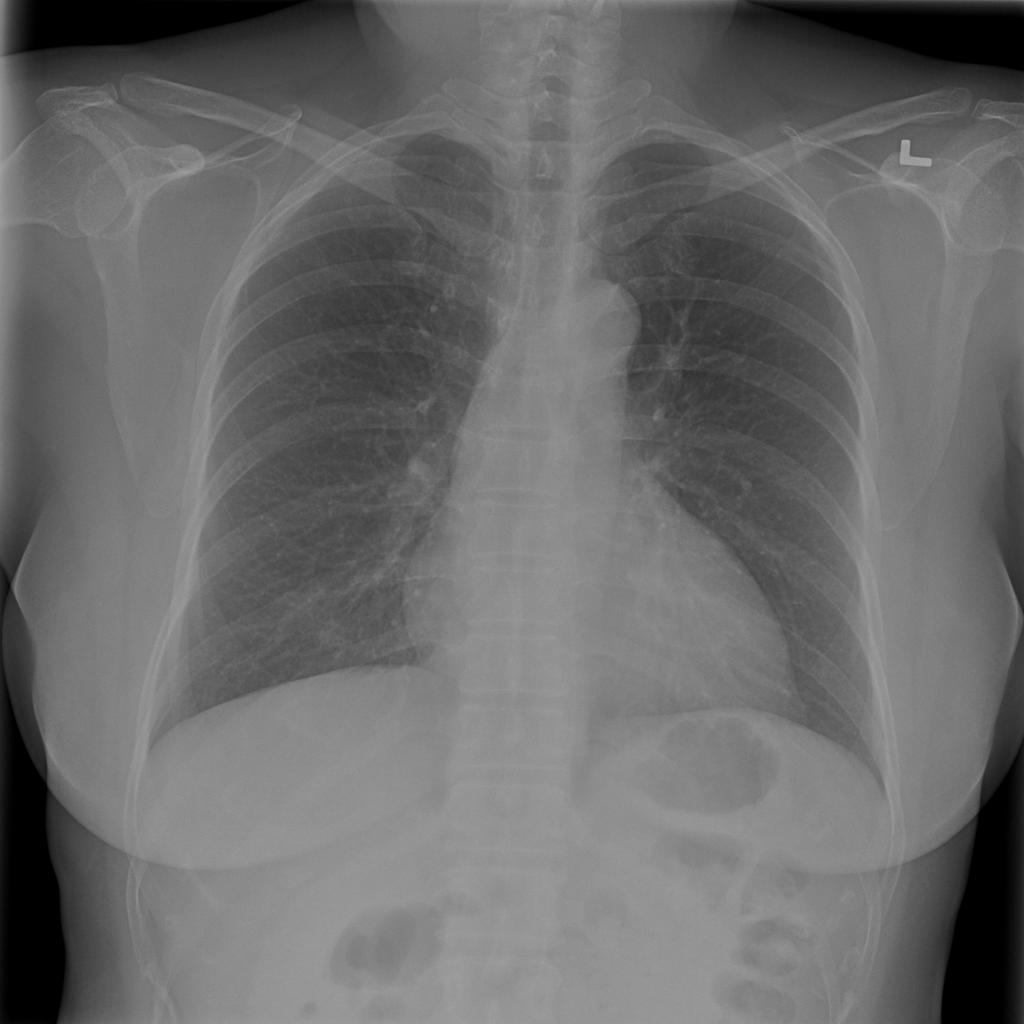nodule: (304, 610, 358, 657)
